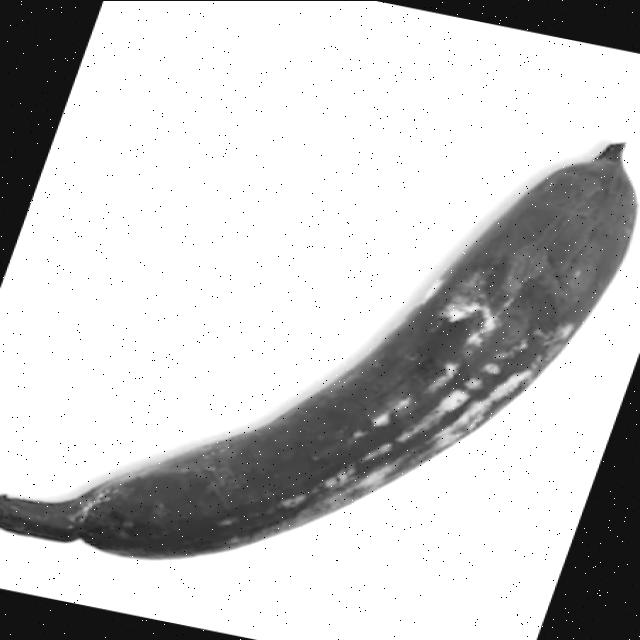Rotten: (1, 140, 634, 559)
